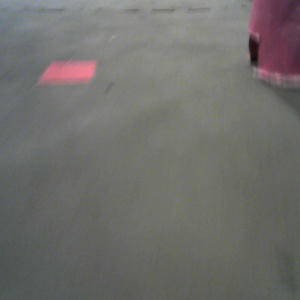Right: (248, 1, 300, 87)
